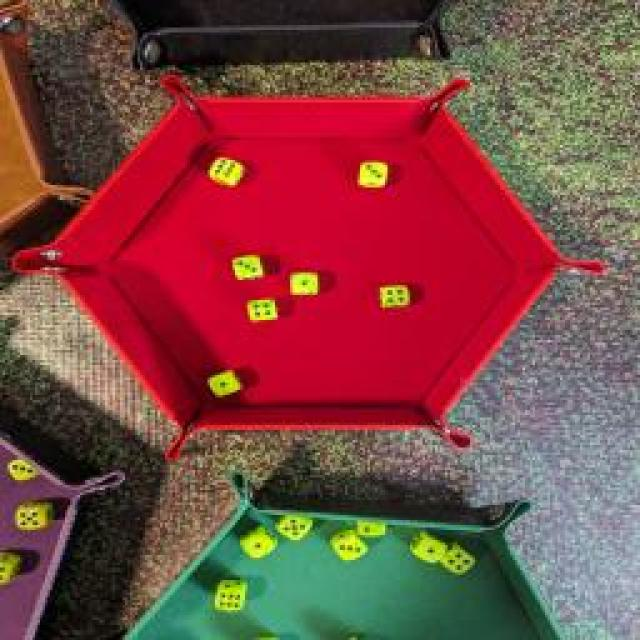dice_1: (406, 526, 449, 564), (202, 366, 242, 399), (240, 528, 278, 560), (284, 269, 324, 299)
dice_2: (354, 519, 394, 539)
dice_3: (326, 528, 372, 562), (350, 156, 390, 192), (229, 254, 269, 284), (7, 454, 45, 484)
dice_4: (242, 295, 282, 325), (372, 282, 412, 310), (434, 546, 474, 574)
dice_5: (12, 499, 58, 529), (274, 512, 316, 540)
dice_6: (206, 155, 246, 187), (212, 579, 246, 611)
